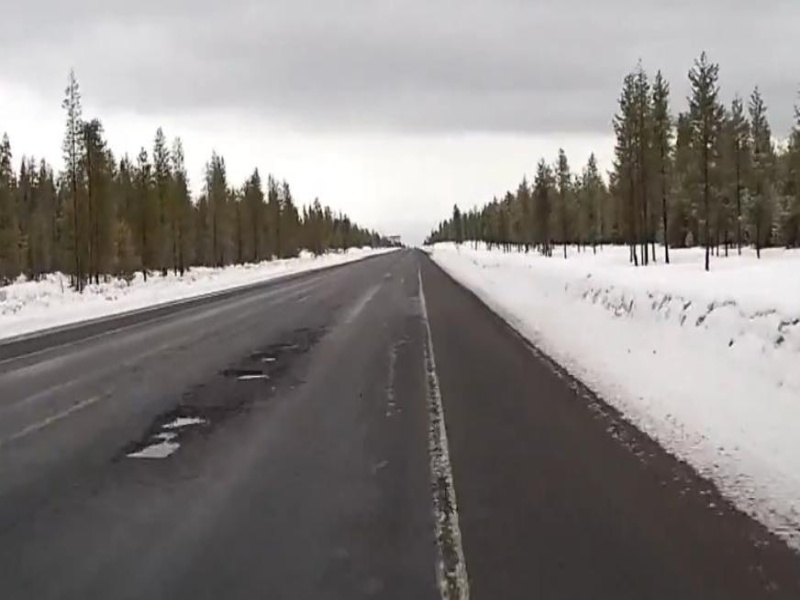pothole: (121, 437, 191, 463), (150, 413, 213, 432)
